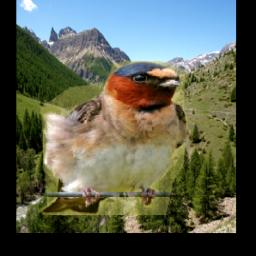Swallow: (38, 61, 191, 215)
